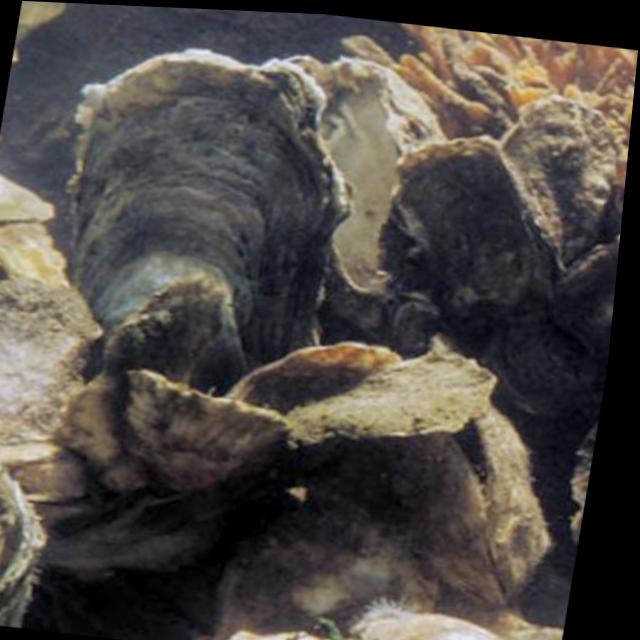Oyster-Closed: (478, 310, 592, 421), (0, 447, 41, 628)
Oyster-Indeterminate: (69, 55, 354, 377), (225, 501, 439, 640), (396, 136, 540, 312), (128, 366, 296, 493), (275, 354, 498, 442), (498, 100, 612, 268), (0, 278, 102, 449), (223, 346, 404, 406), (551, 234, 620, 359), (0, 217, 67, 281), (0, 173, 58, 222)
Oyster-Open: (408, 405, 551, 608)
